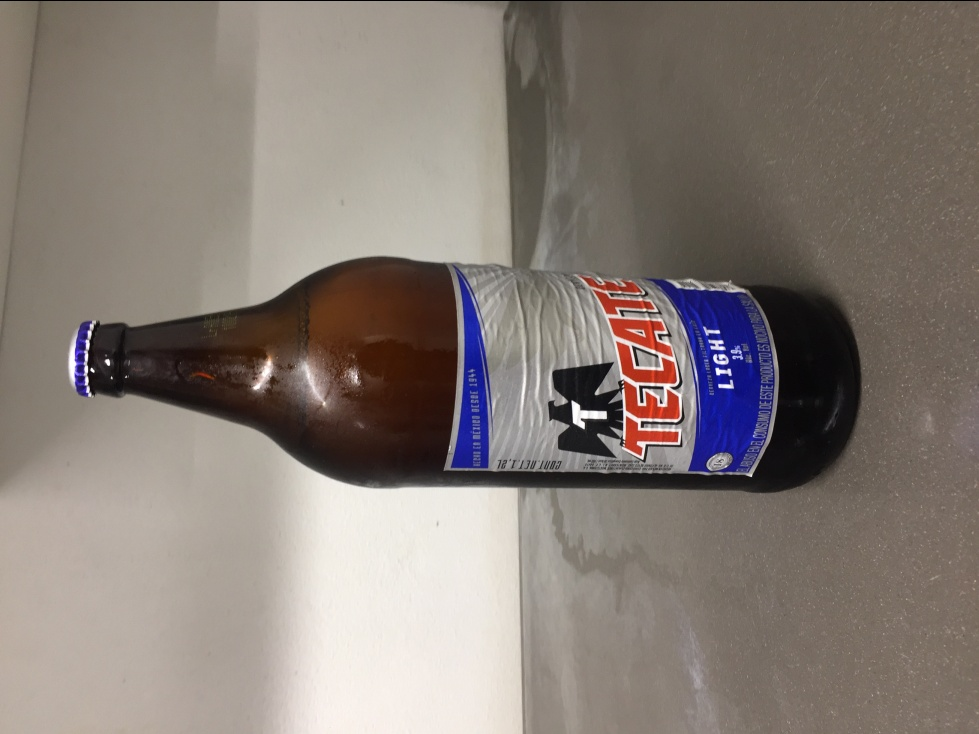tecateC: (68, 255, 861, 490)
